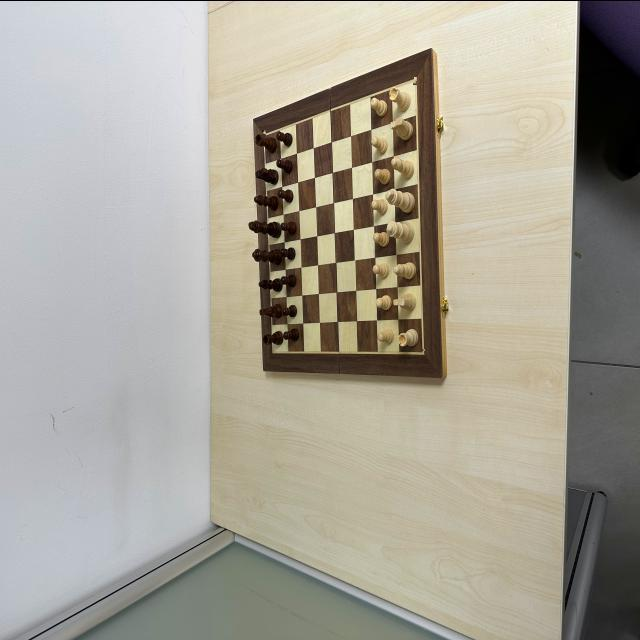chess-table-corners: (421, 348, 426, 358), (414, 76, 418, 84), (262, 129, 266, 137), (271, 348, 275, 354)
